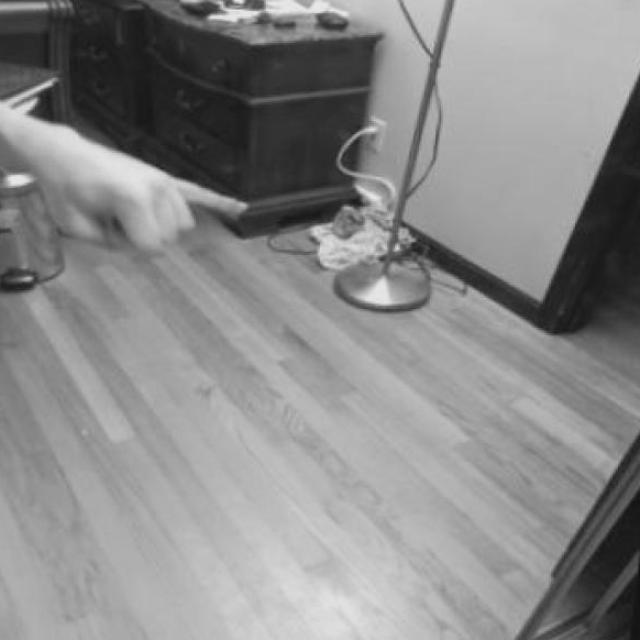J: (24, 122, 252, 280)
